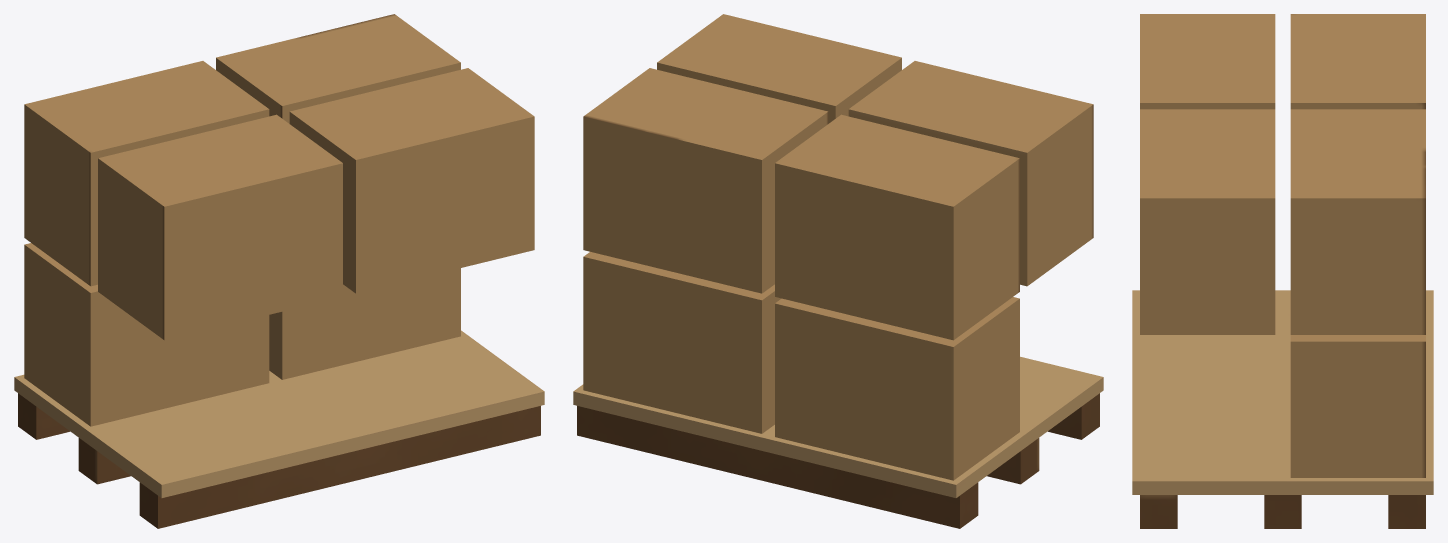
Rendered from paleta_a5134b92.glb.
The picture shows the model from 3 angles, left to right: view 1: azimuth 30°, elevation 25°; view 2: azimuth 150°, elevation 25°; view 3: azimuth 270°, elevation 25°; orthographic projection. The views are drawn at different scales.
Parts seen in each view (by area): view 1: dum; view 2: dum; view 3: dum.
Boxes of the visible parts, x1=… form: dum: x1=14, y1=14, x2=544, y2=528; dum: x1=573, y1=14, x2=1103, y2=528; dum: x1=1132, y1=14, x2=1433, y2=528.
Size of the model in its own units: 1.2 by 0.9575 by 0.798.
1 material, 1 textured.
